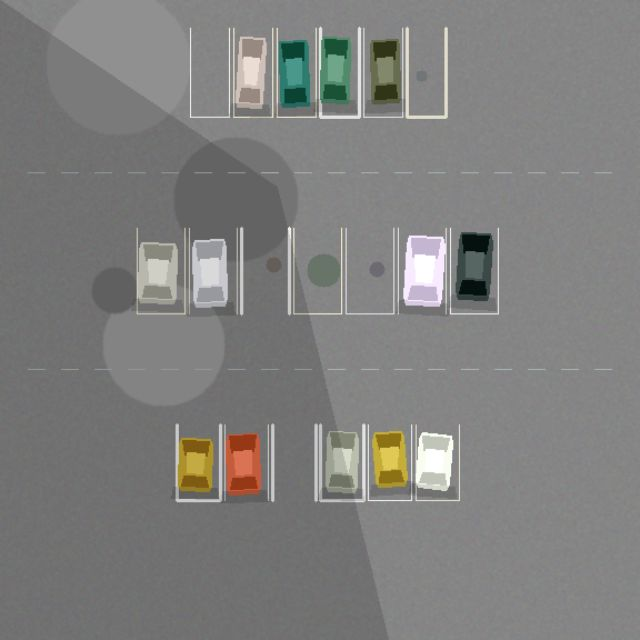space-empty: (241, 228, 289, 313), (293, 228, 341, 313), (346, 228, 393, 313), (190, 28, 229, 117), (407, 28, 446, 117), (272, 424, 316, 500)
space-occupied: (189, 228, 237, 313), (398, 228, 446, 313), (450, 228, 498, 313), (137, 228, 184, 313), (233, 28, 272, 117), (277, 28, 316, 117), (320, 28, 359, 117), (363, 28, 402, 117), (224, 424, 268, 500), (177, 424, 220, 500), (320, 424, 363, 500), (368, 424, 411, 500), (416, 424, 459, 500)
